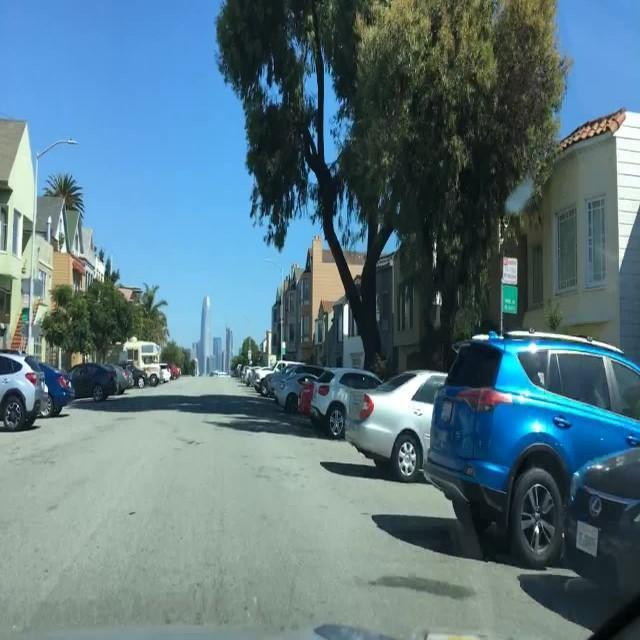normal: (253, 343, 640, 599), (6, 317, 124, 449)
